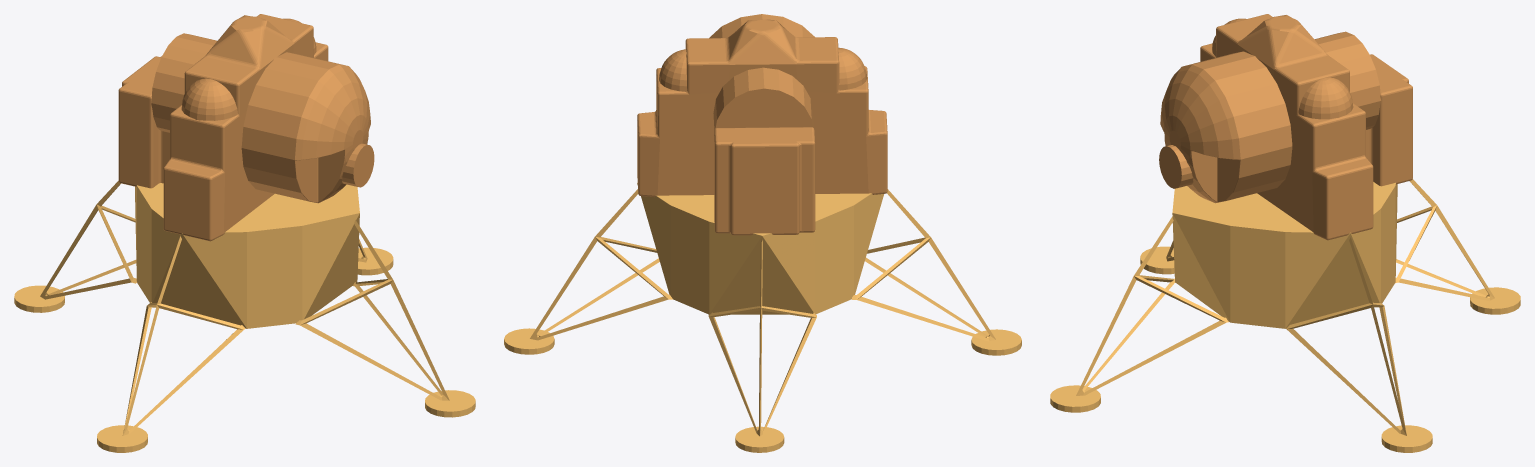
File: lenwood.glb
3 views of the same model, side by side, from view 1: azimuth 30°, elevation 25°; view 2: azimuth 150°, elevation 25°; view 3: azimuth 270°, elevation 25° (orthographic). The views are drawn at different scales.
Parts seen in each view (by area): view 1: Cylinder.027; view 2: Cylinder.027; view 3: Cylinder.027.
Part boxes in pixels (box(x1,y1,x2,y2)): Cylinder.027: box(14, 14, 475, 452); Cylinder.027: box(504, 14, 1021, 452); Cylinder.027: box(1050, 14, 1520, 452).
Size of the model in its own units: 1.05 by 0.8132 by 1.05.
Materials: 2 (1 with a texture image).
